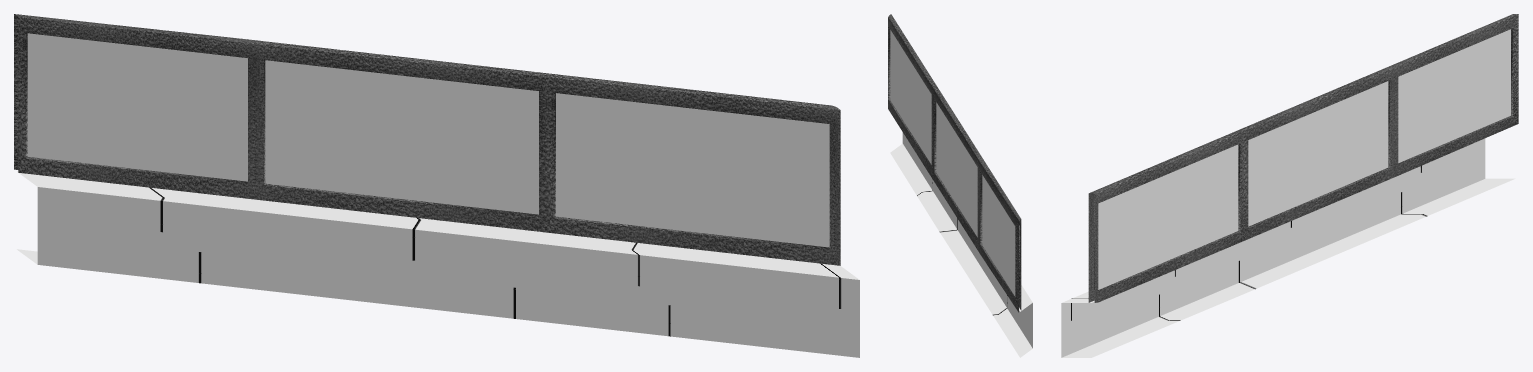
File: Parapet02_45Deg2_350cm.FBX
The picture shows the model from 3 angles, left to right: view 1: azimuth 30°, elevation 25°; view 2: azimuth 150°, elevation 25°; view 3: azimuth 270°, elevation 25°; orthographic projection. The views are drawn at different scales.
Visible parts, largest first — view 1: Parapet02_45Deg2_350cm; view 2: Parapet02_45Deg2_350cm; view 3: Parapet02_45Deg2_350cm.
Part boxes in pixels (box(x1,y1,x2,y2)): Parapet02_45Deg2_350cm: box(14, 14, 859, 357); Parapet02_45Deg2_350cm: box(888, 14, 1032, 357); Parapet02_45Deg2_350cm: box(1061, 14, 1518, 357).
Bounding box in the file's own units: 350 × 150 × 377.
